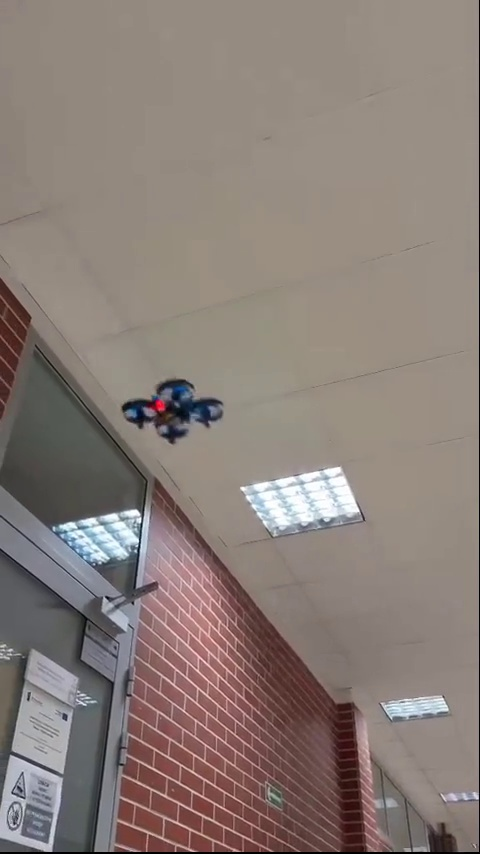drone: (128, 384, 230, 443)
